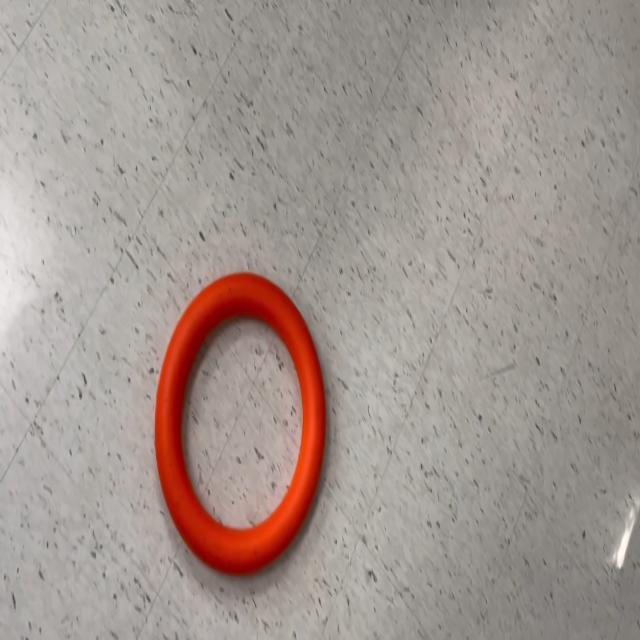note: (152, 271, 327, 579)
